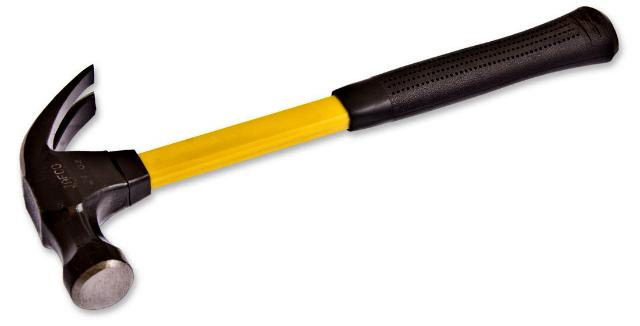hammer: (13, 0, 623, 318)
